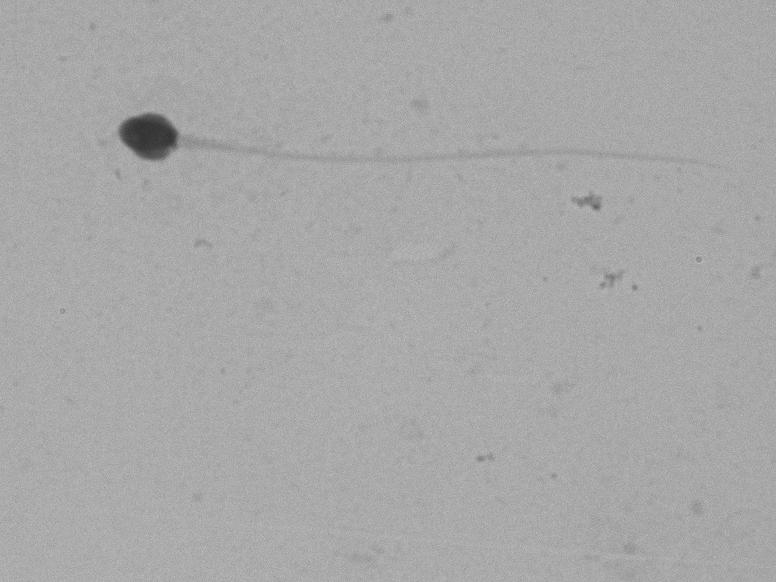Abnormal: (92, 72, 745, 211)
